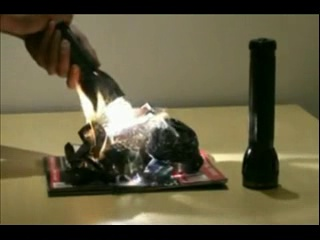fire: (77, 71, 114, 160)
